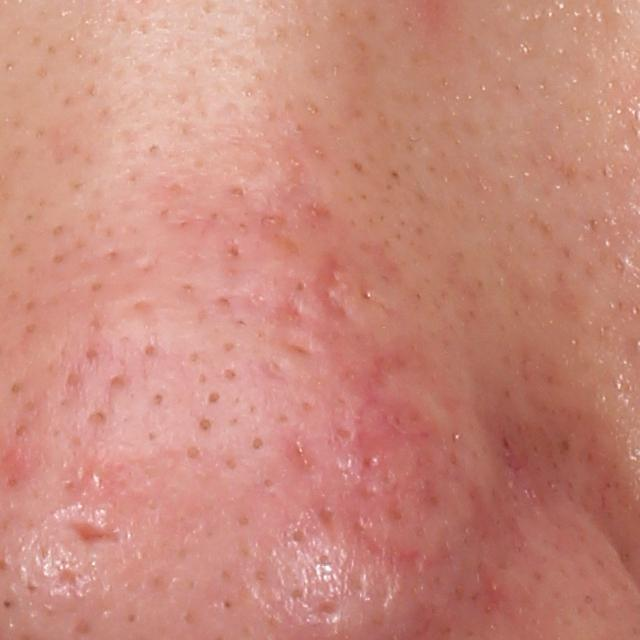atrophic_scar: (316, 257, 347, 319)
comedo: (81, 407, 111, 434), (191, 411, 218, 437), (217, 362, 239, 387), (200, 385, 221, 409), (288, 525, 308, 550), (247, 433, 267, 455), (226, 183, 247, 201), (291, 276, 311, 294), (186, 441, 202, 461)
